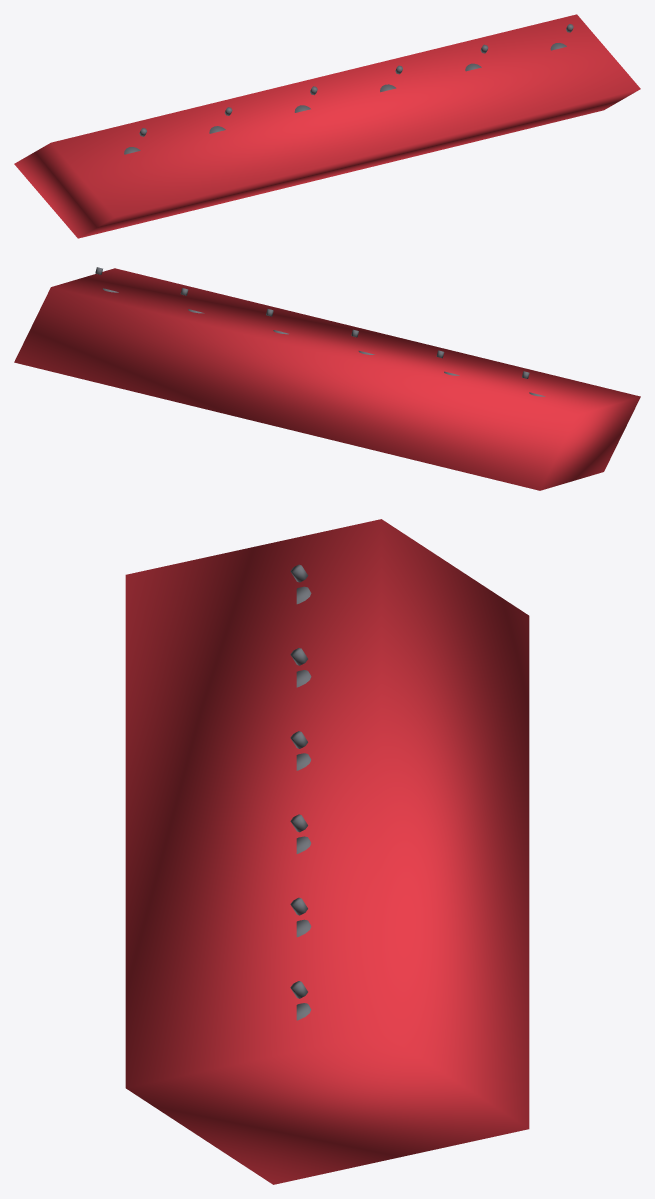
The model's file is valve-cover-right.glb.
3 views of the same model, one above another, from view 1: azimuth 30°, elevation 25°; view 2: azimuth 150°, elevation 25°; view 3: azimuth 270°, elevation 25° (orthographic). The views are drawn at different scales.
Parts seen in each view (by area): view 1: Mesh_Valve_Cover_Right, Mesh_COP_Packs_Right; view 2: Mesh_Valve_Cover_Right, Mesh_COP_Packs_Right; view 3: Mesh_Valve_Cover_Right, Mesh_COP_Packs_Right.
Part boxes in pixels (<box>): Mesh_Valve_Cover_Right: <box>14,14,640,238</box>; Mesh_COP_Packs_Right: <box>124,24,573,154</box>; Mesh_Valve_Cover_Right: <box>14,268,640,490</box>; Mesh_COP_Packs_Right: <box>95,267,545,396</box>; Mesh_Valve_Cover_Right: <box>125,519,529,1184</box>; Mesh_COP_Packs_Right: <box>290,564,311,1020</box>.
Size of the model in its own units: 0.74 by 0.1184 by 0.2459.
